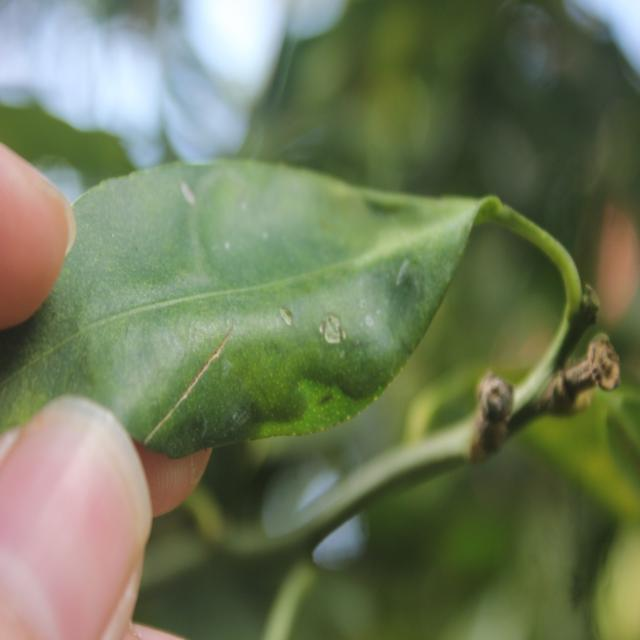canker: (133, 243, 368, 418)
